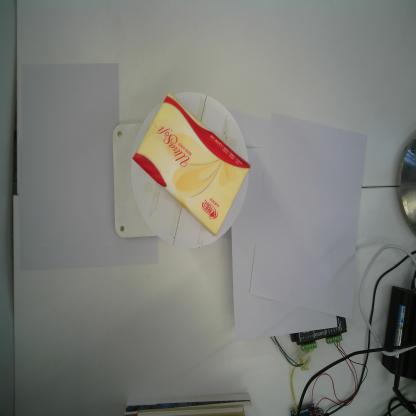Tissue: (132, 92, 251, 238)
